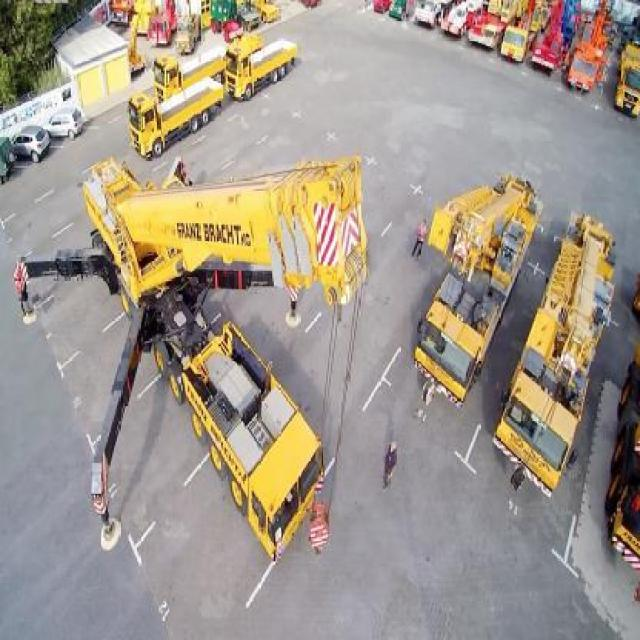Mobile Crane: (13, 156, 365, 550), (492, 204, 618, 508), (412, 165, 542, 421)
